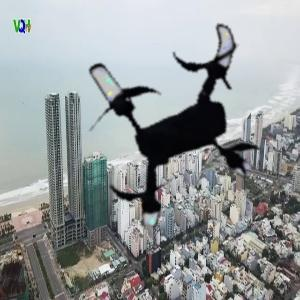drone: (60, 6, 281, 227)
